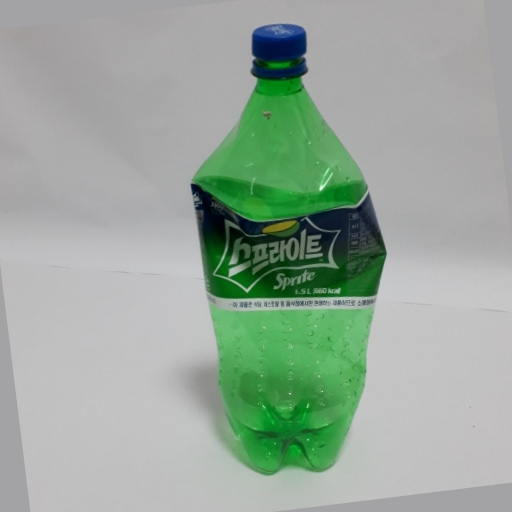Plastic_0: (188, 21, 391, 481)
